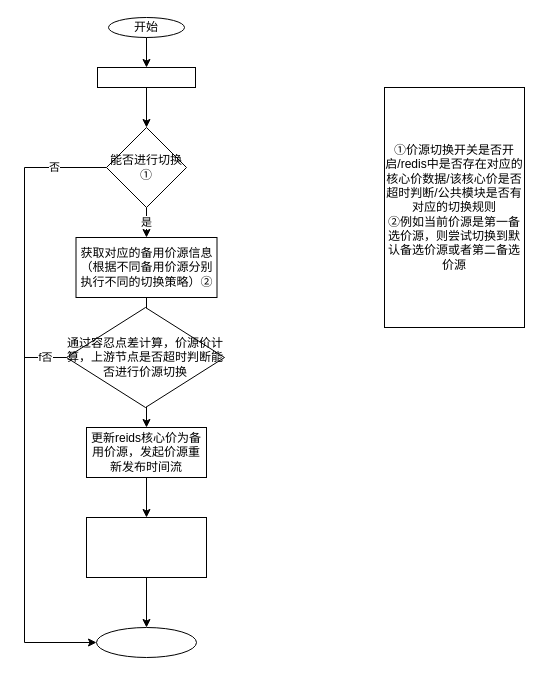
Some shapes in this 542 by 675 pixel diagram are drawn without their labels. Each missing label, with the centre of its shape:
保存切换成功的价源数据，轮询判断是否有更优的价源数据，如果有则进行更新: point (146, 547)
结束: point (146, 642)
获取超时价源列表: point (146, 77)
